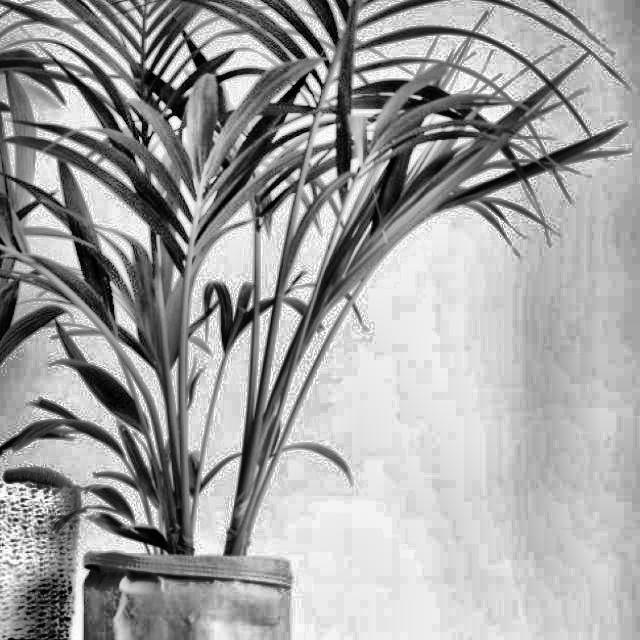plants: (78, 4, 350, 516)
